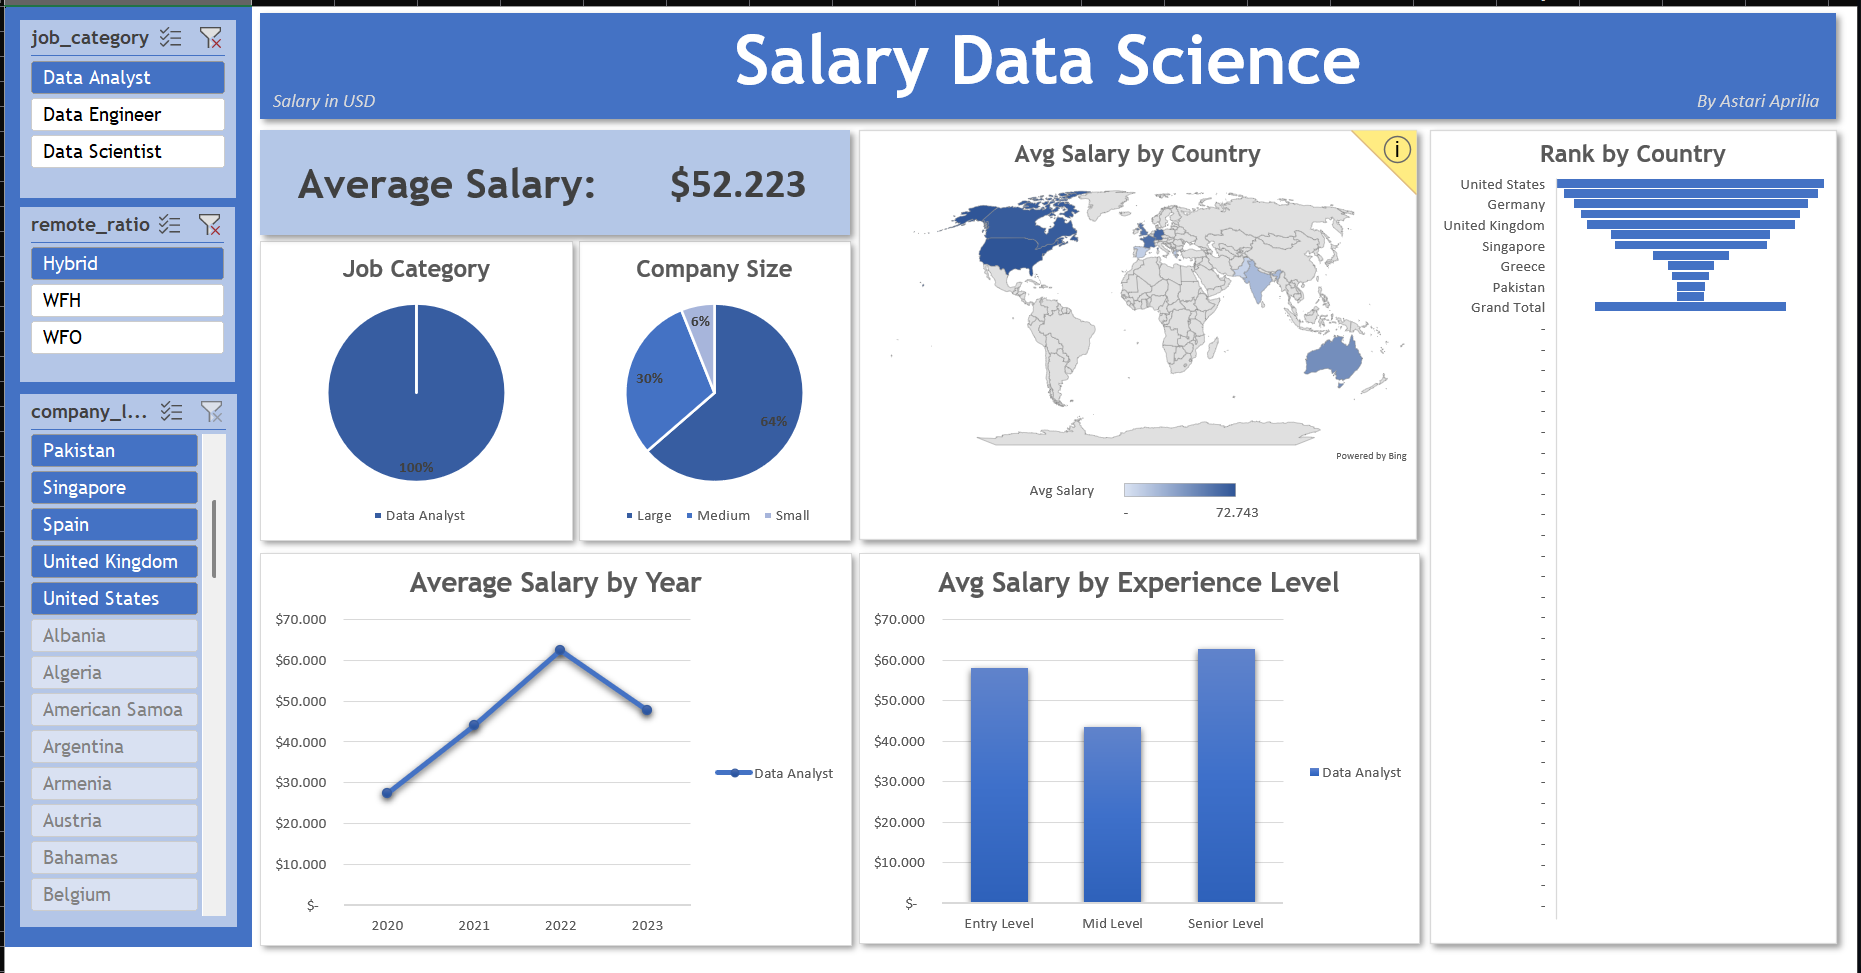

What the dashboard file says about the page in this screenshot:
{"tool":"tableau","page":{"name":"Dashboard 1","canvas":[1600,900],"ordinal":0},"visuals":[{"type":"text","box":[8,8,1584,65]},{"type":"worksheet","title":"Average Salary","mark":"Automatic","box":[8,73,792,79]},{"type":"dashboard-object","box":[800,73,792,79]},{"type":"worksheet","title":"job_cat","mark":"Automatic","rows":["salary_in_usd"],"cols":["work_year"],"box":[8,152,792,298]},{"type":"worksheet","title":"AVG Salary by Exp","mark":"Automatic","rows":["work_year"],"cols":["experience_level"],"box":[800,152,792,332]},{"type":"legend","title":"job_cat","param":"[federated.0b5z8li147imgp1fcd0af1xfuxoh].[none:job_category:nk]","box":[8,450,792,34]},{"type":"worksheet","title":"AVG Salary by Company Location","mark":"Automatic","box":[8,484,875,408]},{"type":"legend","title":"AVG Salary by Company Location","param":"[federated.0b5z8li147imgp1fcd0af1xfuxoh].[avg:salary_in_usd:qk]","box":[883,484,709,37]},{"type":"worksheet","title":"Company Size Composition","mark":"Pie","box":[883,521,709,371]}]}

Visuals, with their boxes on the page's 1600x900 design canvas (x1, y1, x2, y2). These are canvas units, not pixel positions in the 1861x973 screenshot, which may show the page scaled, cropped or inside an application window:
text: crop(8, 8, 1592, 73)
"Average Salary" worksheet: crop(8, 73, 800, 152)
dashboard-object: crop(800, 73, 1592, 152)
"job_cat" worksheet: crop(8, 152, 800, 450)
"AVG Salary by Exp" worksheet: crop(800, 152, 1592, 484)
"job_cat" legend: crop(8, 450, 800, 484)
"AVG Salary by Company Location" worksheet: crop(8, 484, 883, 892)
"AVG Salary by Company Location" legend: crop(883, 484, 1592, 521)
"Company Size Composition" worksheet (Pie marks): crop(883, 521, 1592, 892)
